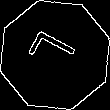L_SE: (25, 29, 85, 81)
